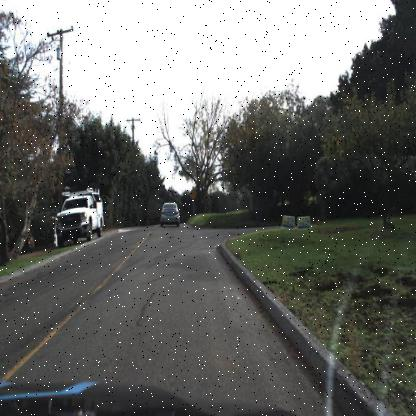car: (52, 184, 105, 248), (160, 196, 182, 226)
truck: (47, 180, 110, 258)
